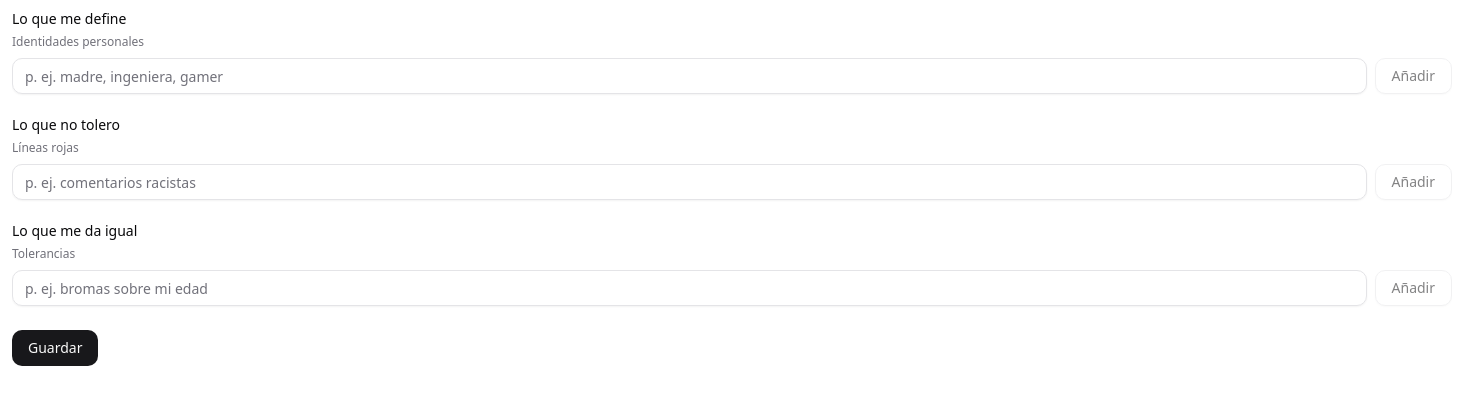
PersonaForm › adds a new entry when pressing Enter
Type "gamer" into the field labelled "Lo que me define" at (689, 76), box [12,58,1366,94]
Then press Enter
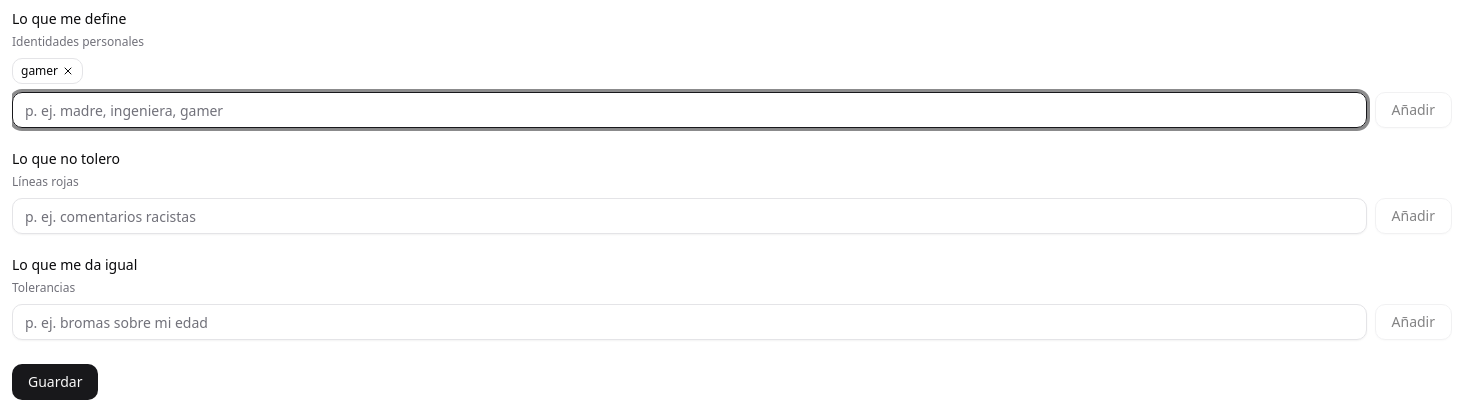
Now the text "gamer" is shown, box [12,58,83,84]
